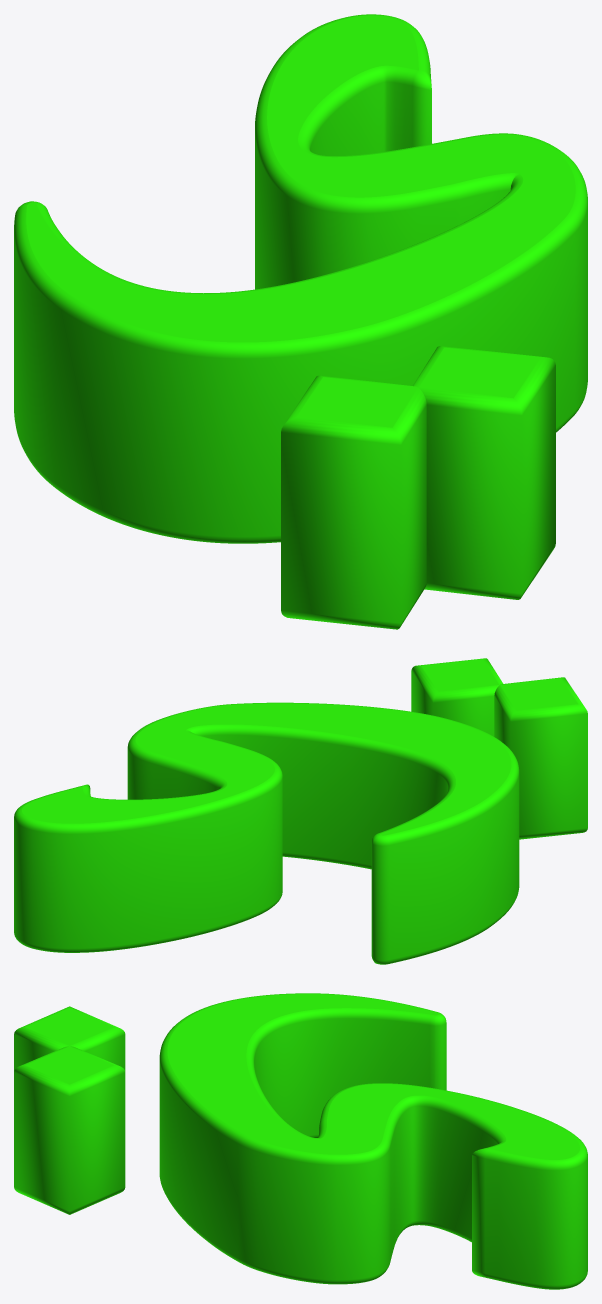
3 views of the same model, one above another, from view 1: azimuth 30°, elevation 25°; view 2: azimuth 150°, elevation 25°; view 3: azimuth 270°, elevation 25° (orthographic). The views are drawn at different scales.
Parts seen in each view (by area): view 1: Text.132; view 2: Text.132; view 3: Text.132.
Part boxes in pixels (x1,y1,x2,y2): Text.132: [14, 14, 587, 629]; Text.132: [14, 658, 587, 964]; Text.132: [14, 993, 587, 1289].
Bounding box in the file's own units: 51.7 × 18 × 72.61.
